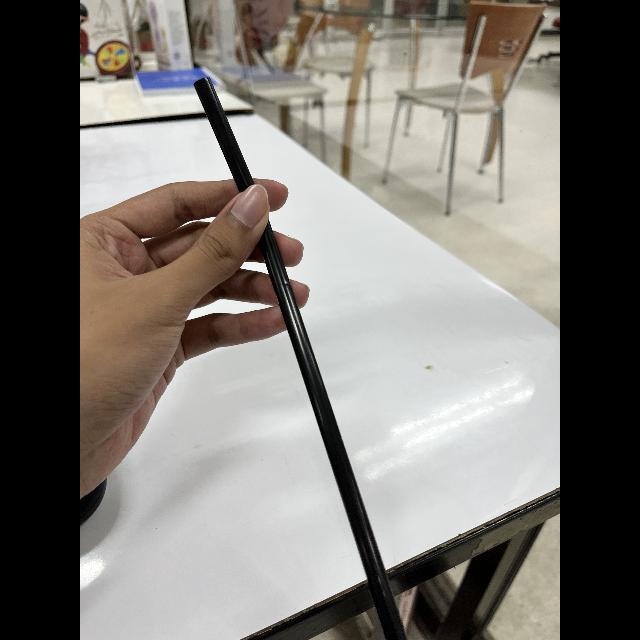straw: (192, 74, 406, 640)
